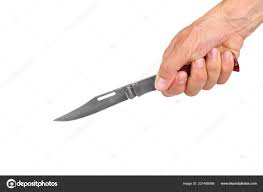knife: (50, 49, 241, 125)
